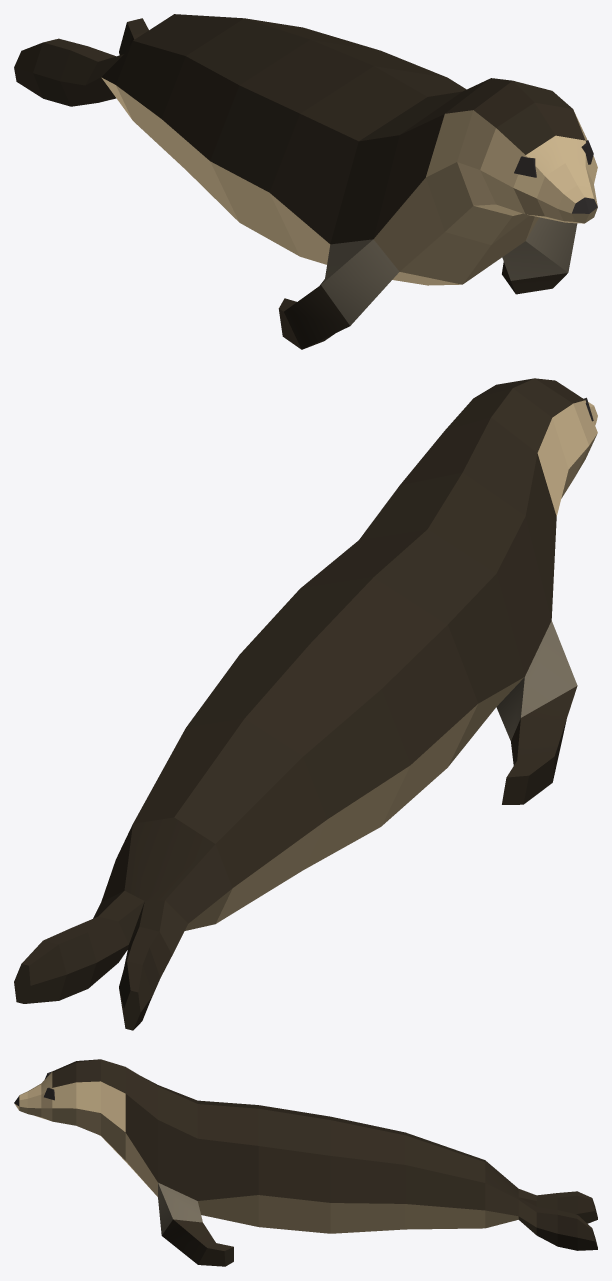
Rendered from Mesh_Seal.gltf.
The picture shows the model from 3 angles, top to bottom: view 1: azimuth 30°, elevation 25°; view 2: azimuth 150°, elevation 25°; view 3: azimuth 270°, elevation 25°; orthographic projection. The views are drawn at different scales.
Parts seen in each view (by area): view 1: node-0; view 2: node-0; view 3: node-0.
Boxes of the visible parts, left/top/right/bottom form: node-0: left=14, top=14, right=597, bottom=349; node-0: left=14, top=378, right=597, bottom=1030; node-0: left=14, top=1059, right=597, bottom=1266.
Size of the model in its own units: 39.88 by 44.11 by 131.
Materials: 1 (1 with a texture image).
